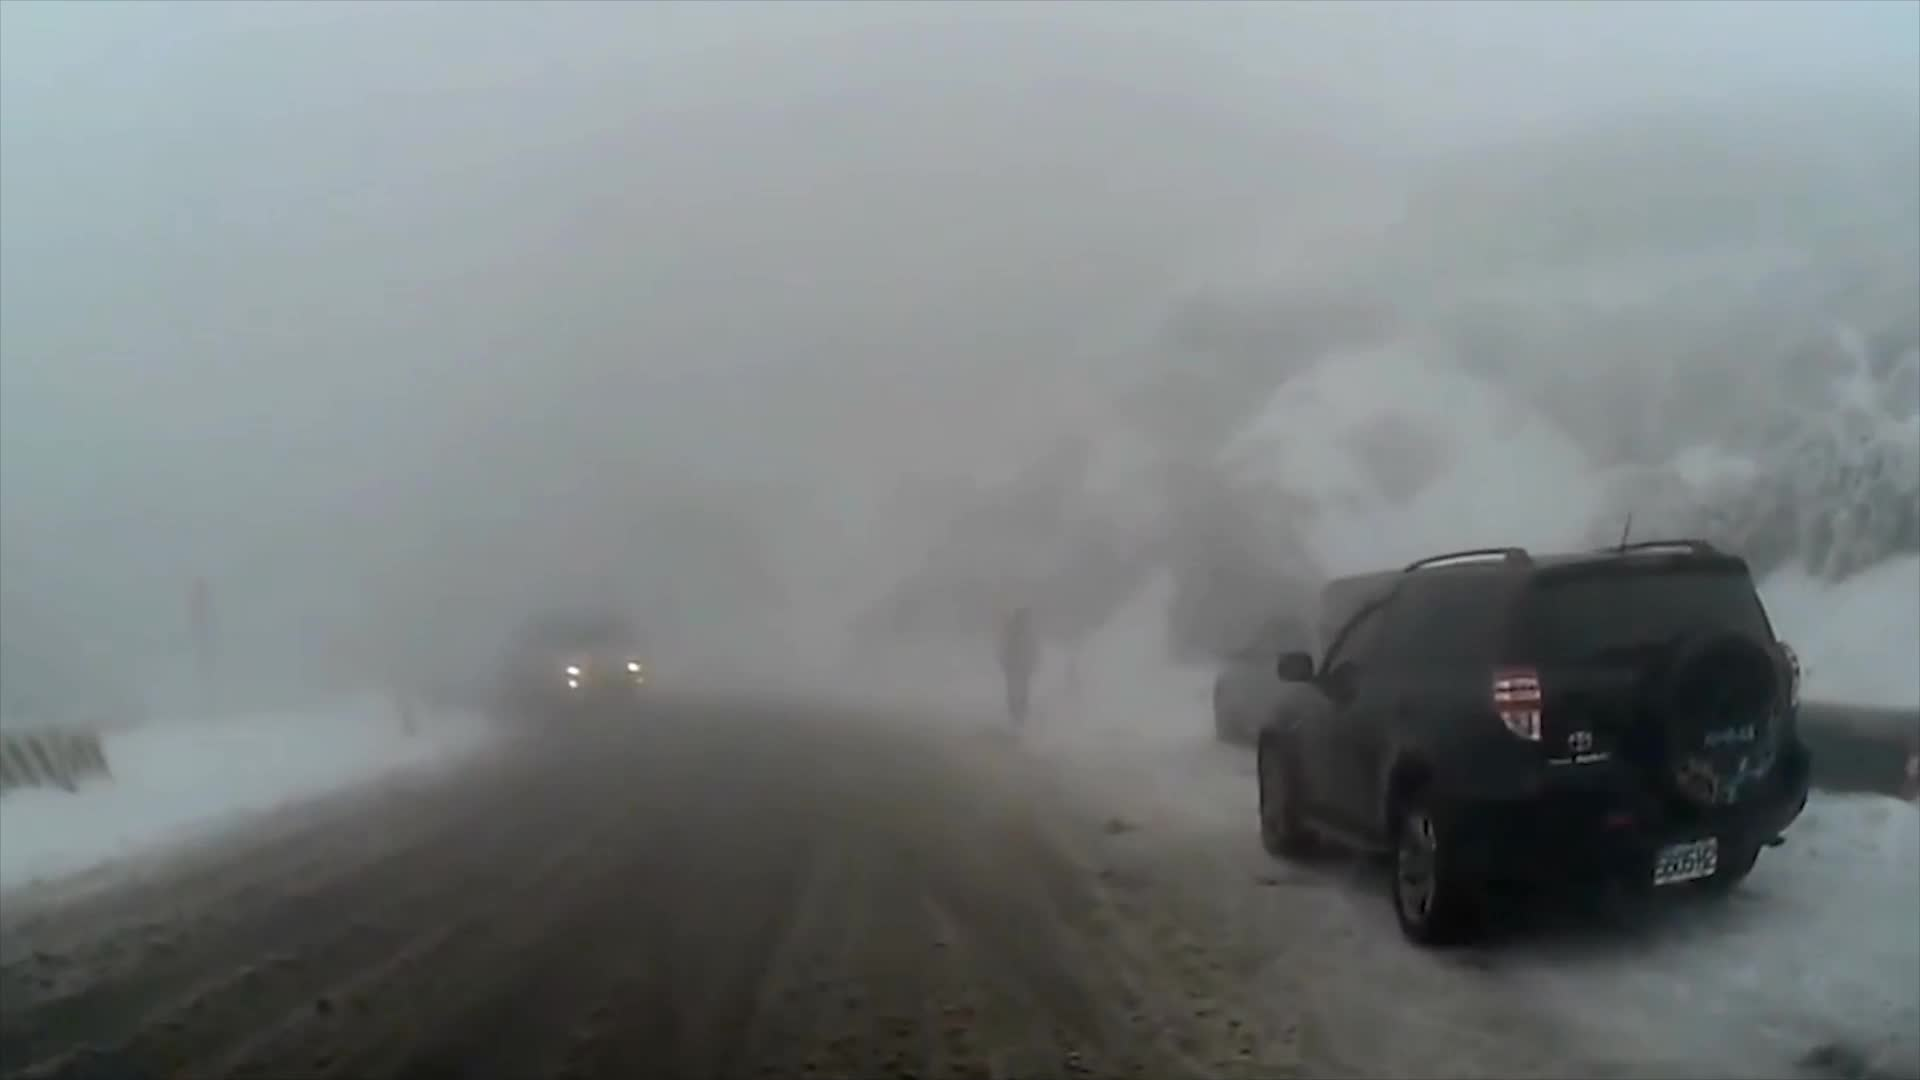pedestrian: (994, 608, 1040, 729)
vehicle: (1251, 535, 1810, 951), (518, 612, 651, 719)
